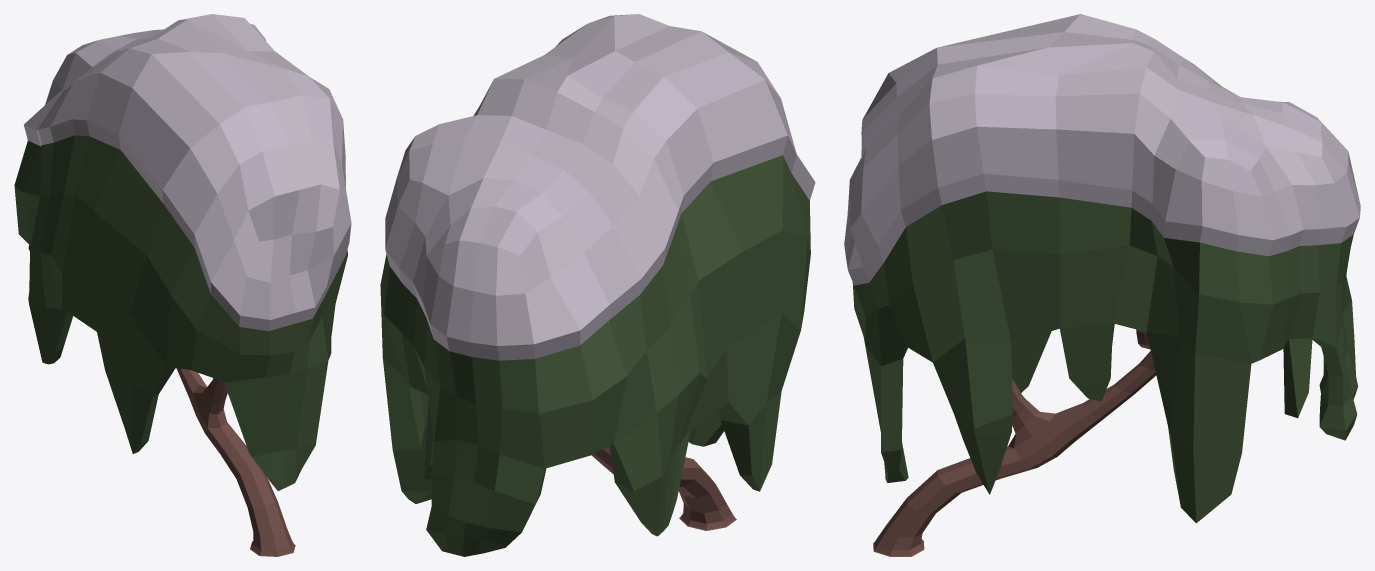
Rendered from willow_snow_2.glb.
3 renders of one model, left to right at view 1: azimuth 30°, elevation 25°; view 2: azimuth 150°, elevation 25°; view 3: azimuth 270°, elevation 25°, orthographic. The views are drawn at different scales.
Parts seen in each view (by area): view 1: Willow_Snow_2; view 2: Willow_Snow_2; view 3: Willow_Snow_2.
Part boxes in pixels (x1,y1,x2,y2): Willow_Snow_2: (14, 14, 351, 556); Willow_Snow_2: (380, 14, 815, 556); Willow_Snow_2: (844, 14, 1360, 556).
Size of the model in its own units: 1.95 by 3.46 by 3.16.
